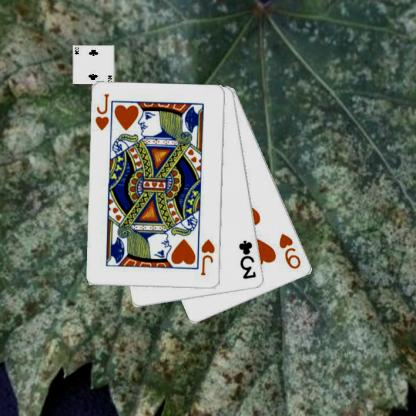3C: (236, 238, 258, 280)
9H: (276, 231, 302, 271)
JH: (199, 237, 216, 277), (93, 92, 110, 132)
